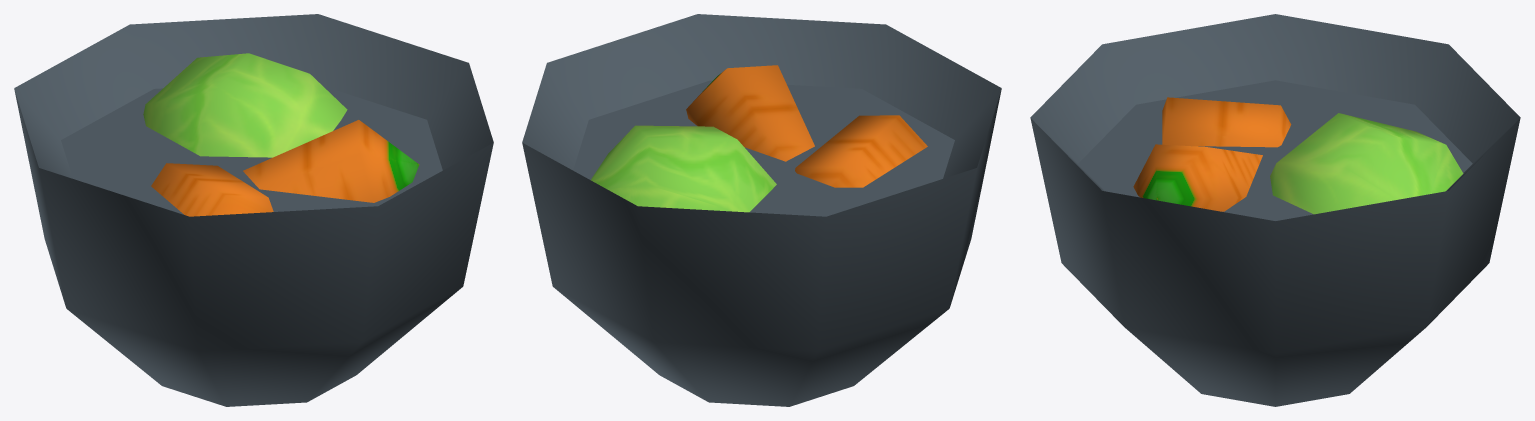
File: Bowl01_a02.FBX
3 renders of one model, left to right at view 1: azimuth 30°, elevation 25°; view 2: azimuth 150°, elevation 25°; view 3: azimuth 270°, elevation 25°, orthographic.
Visible parts, largest first — view 1: Bowl01_a02; view 2: Bowl01_a02; view 3: Bowl01_a02.
Boxes of the visible parts, x1=… form: Bowl01_a02: x1=14, y1=14, x2=493, y2=406; Bowl01_a02: x1=522, y1=14, x2=1001, y2=406; Bowl01_a02: x1=1030, y1=14, x2=1520, y2=406.
Bounding box in the file's own units: 64.8 × 36.64 × 64.8.
